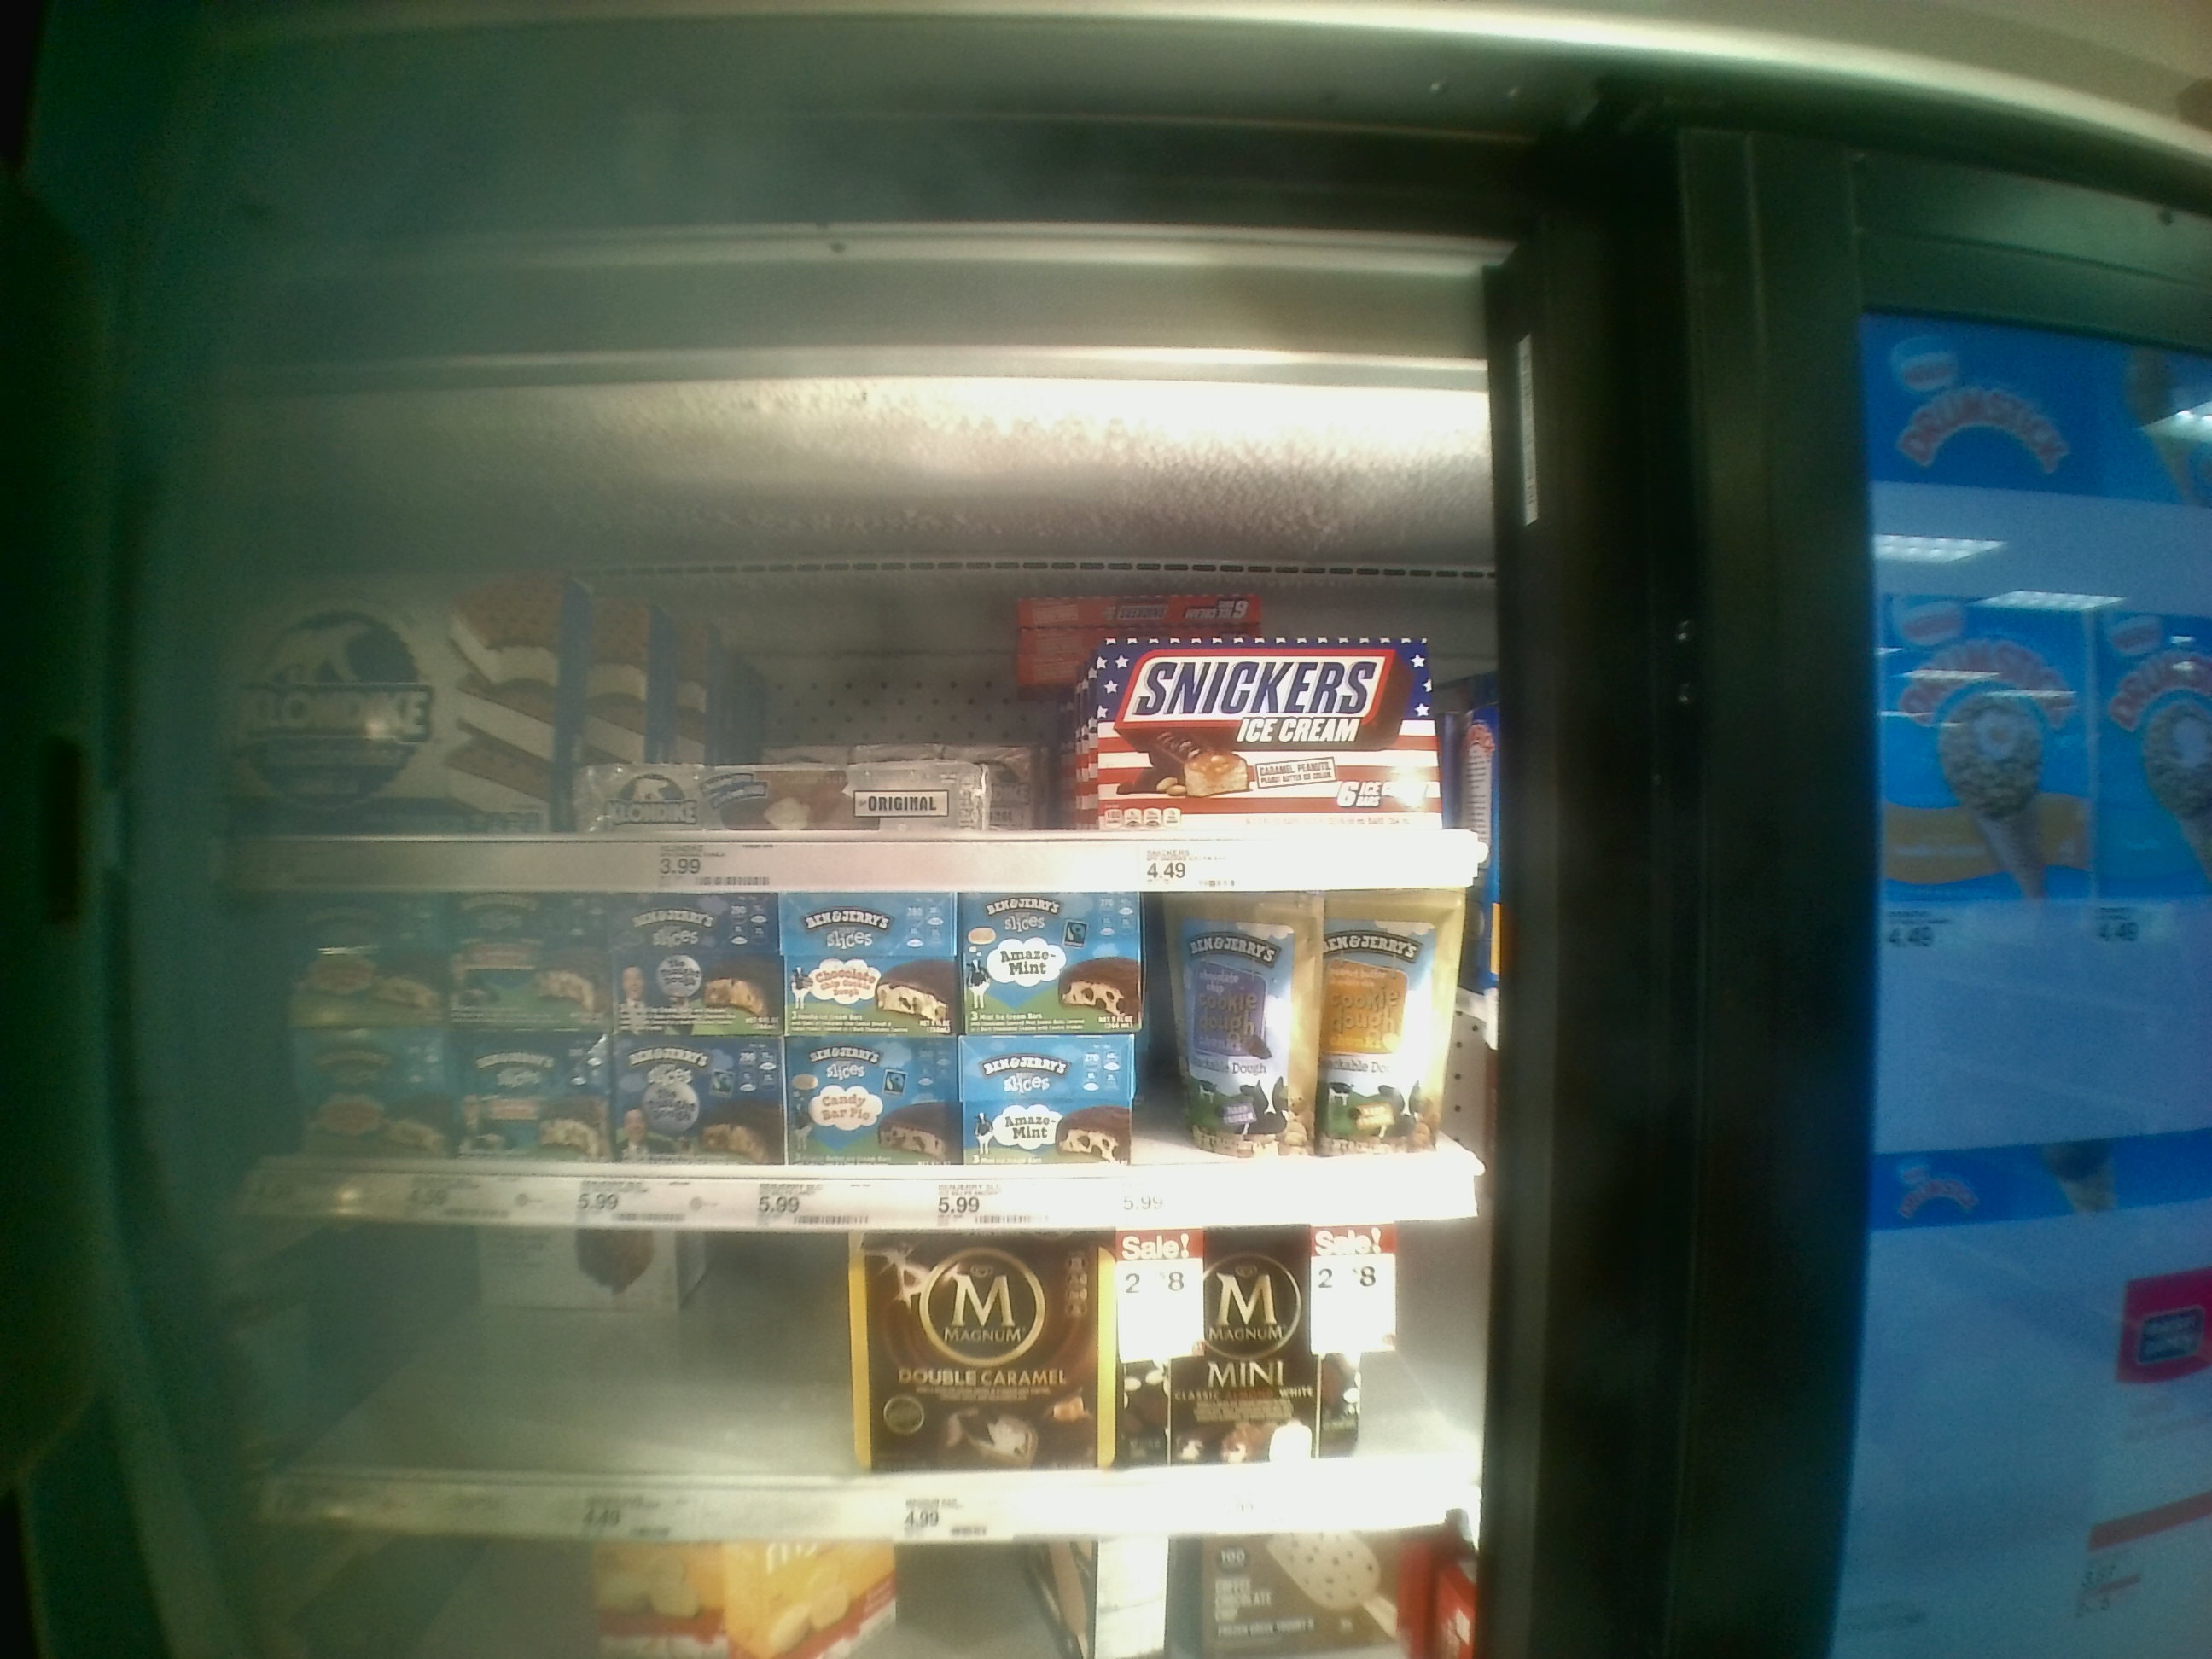ice-cream-shelf: (206, 401, 1501, 894), (206, 897, 1510, 1225), (195, 1225, 1489, 1530)
